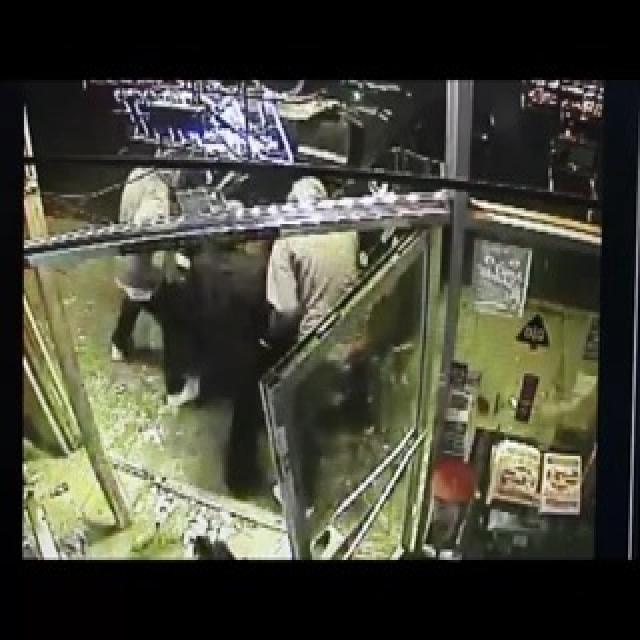thief: (115, 88, 343, 324)
